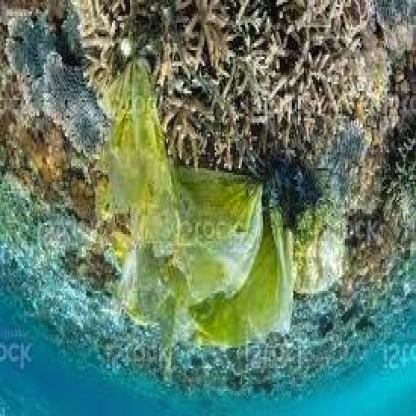pbag: (94, 57, 298, 386)
